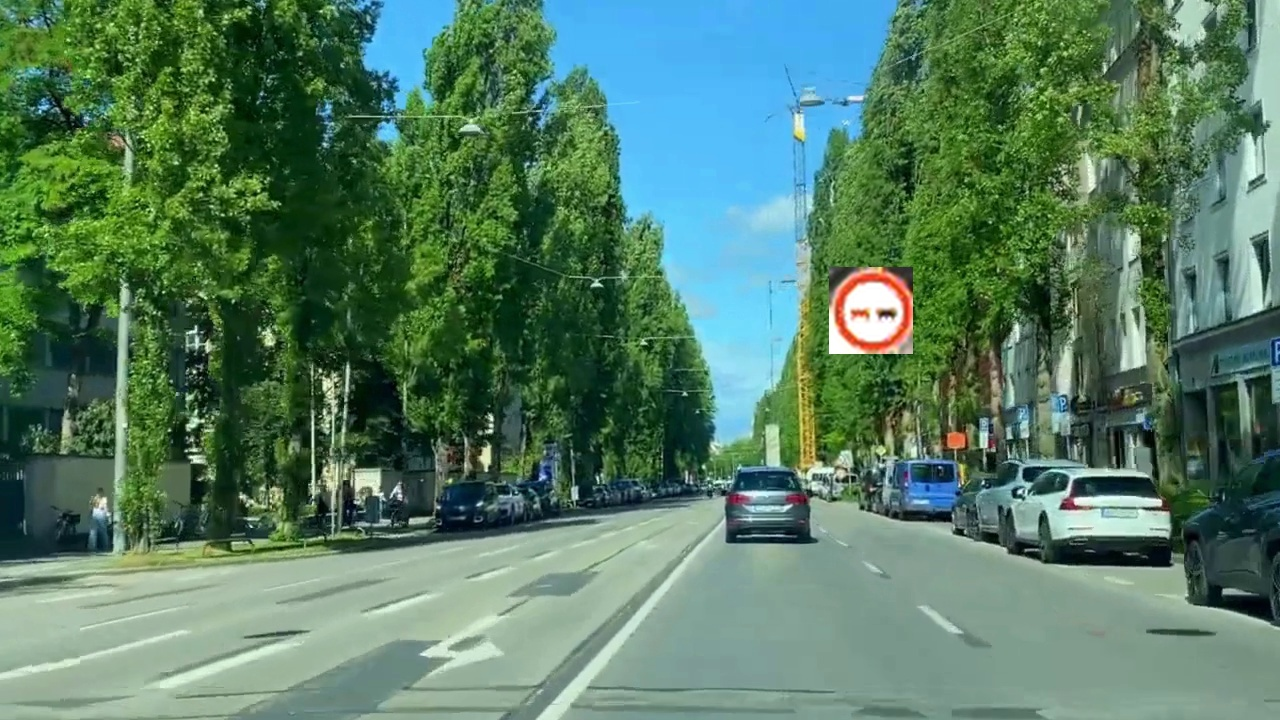No passing: (829, 267, 913, 354)
